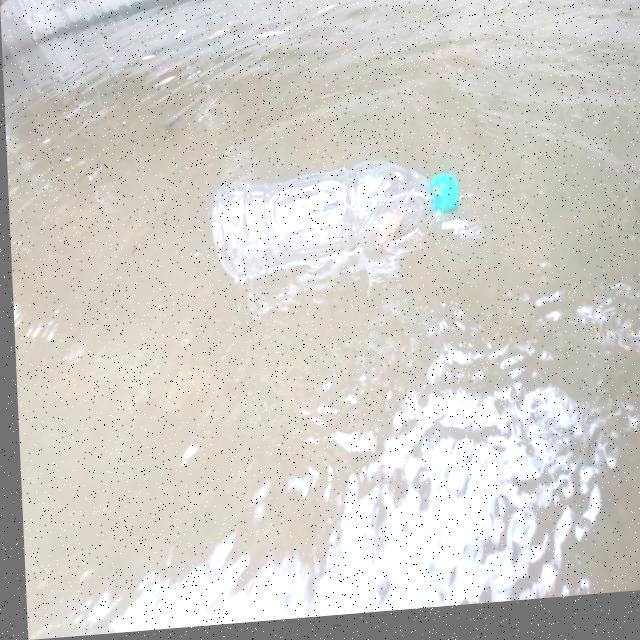waterbottle: (201, 160, 469, 317)
